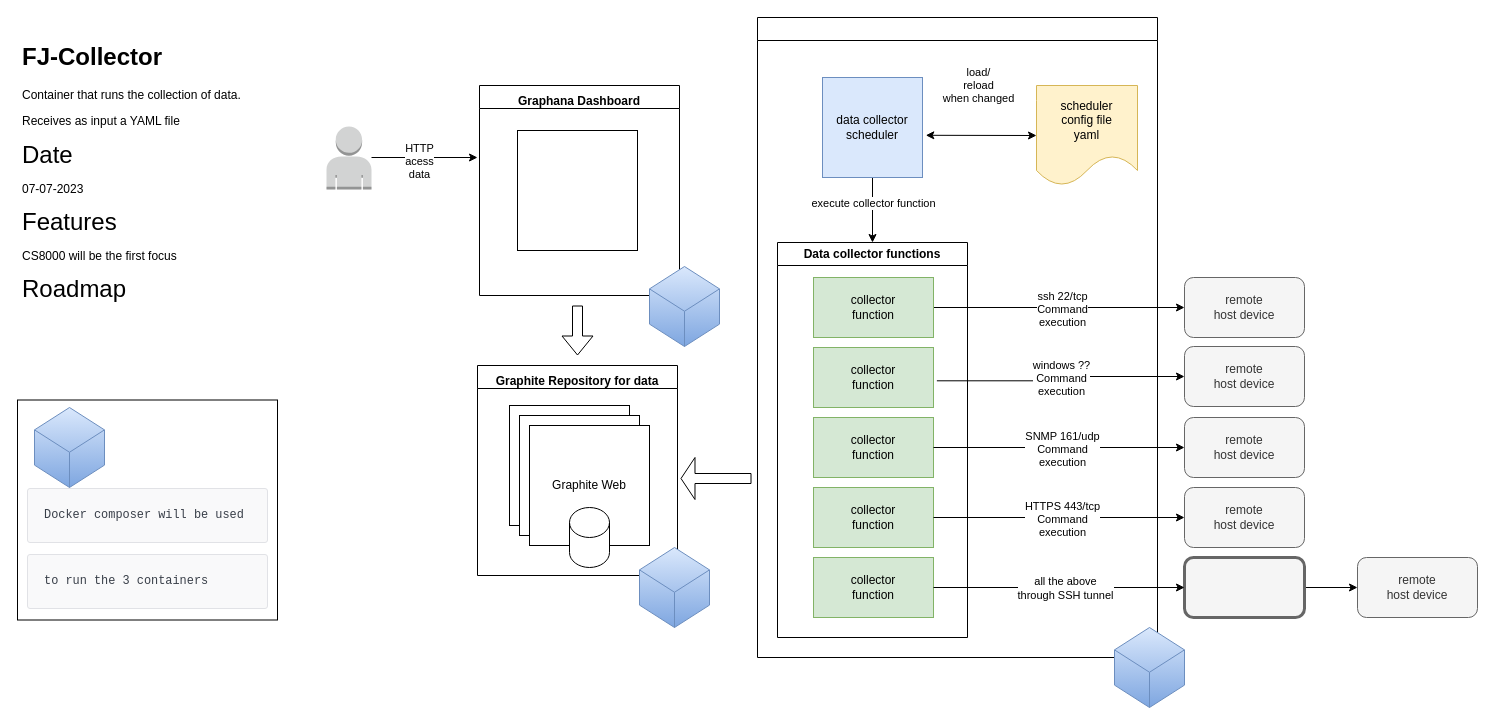
This 1495x725 diagram has some shape labels left out. The shapes that lost their labels are listed below. From the top down, each one's centre as x and y in pixels, then its label:
At pixel 349 158: "User".
At pixel 577 190: "Graphana".
At pixel 957 337: "fs-collector".
At pixel 1244 587: "linux bastion host".
